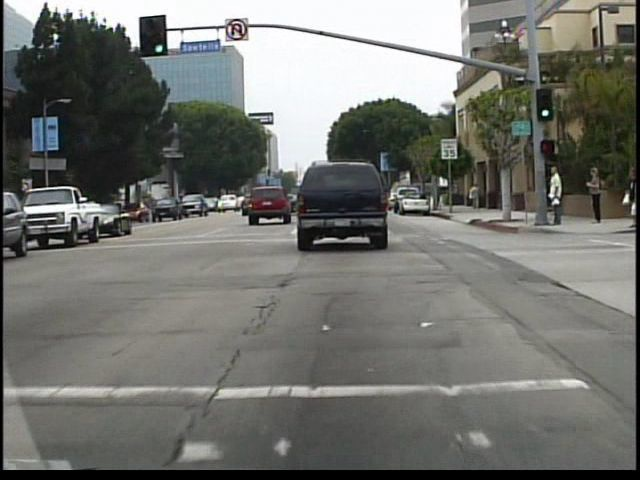person: (543, 163, 564, 234), (586, 165, 606, 227), (467, 181, 483, 217), (425, 185, 438, 213)
